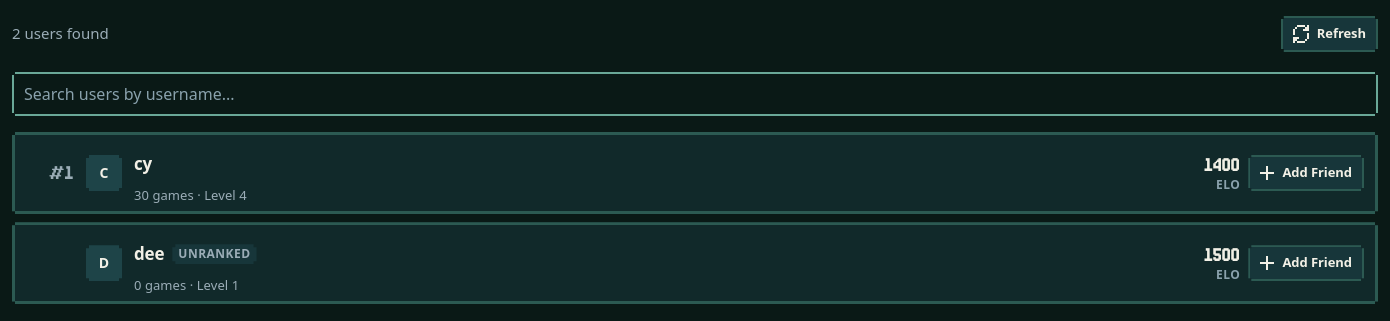
Test case: UserList is a leaderboard (spec §4.12; D-28, O-3) › with a search term the ranks go; Unranked stays
Expected: the list item "#1 C cy 30 games · Level 4 1400 Elo Add Friend" is shown, [12, 132, 1378, 214]
Type "e" into the field with placeholder "Search users by username..." at [695, 94], box [12, 72, 1378, 116]
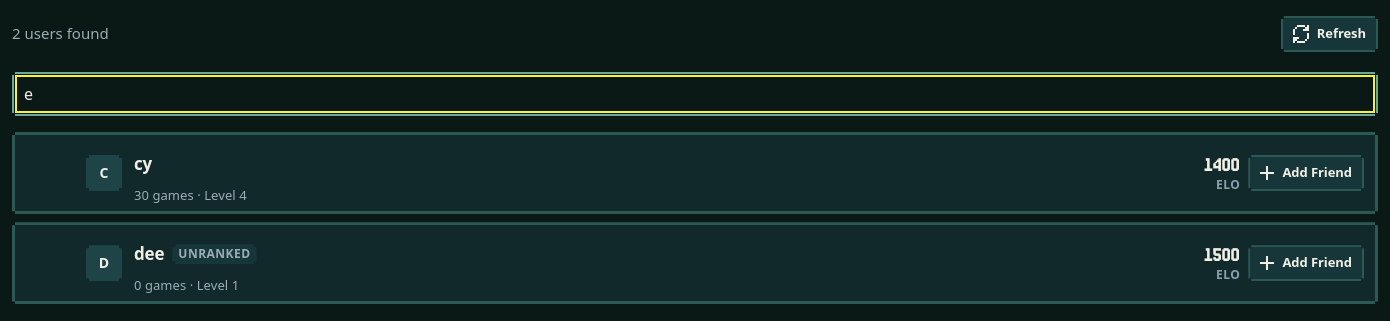
Expected: the text "Unranked" is shown, [178, 246, 251, 262]
Result: the list item "C cy 30 games · Level 4 1400 Elo Add Friend" no longer shows "#" at [12, 132, 1378, 214]
